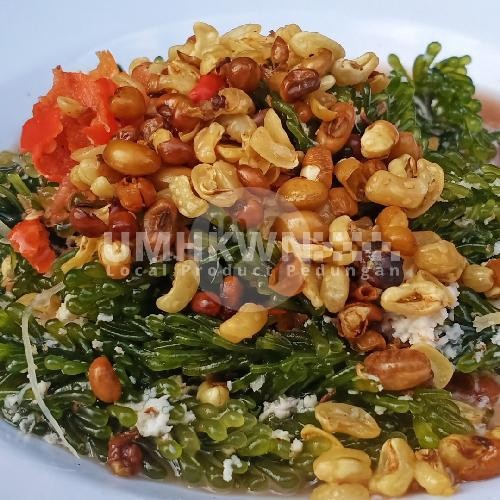bulung buni: (28, 49, 473, 483)
